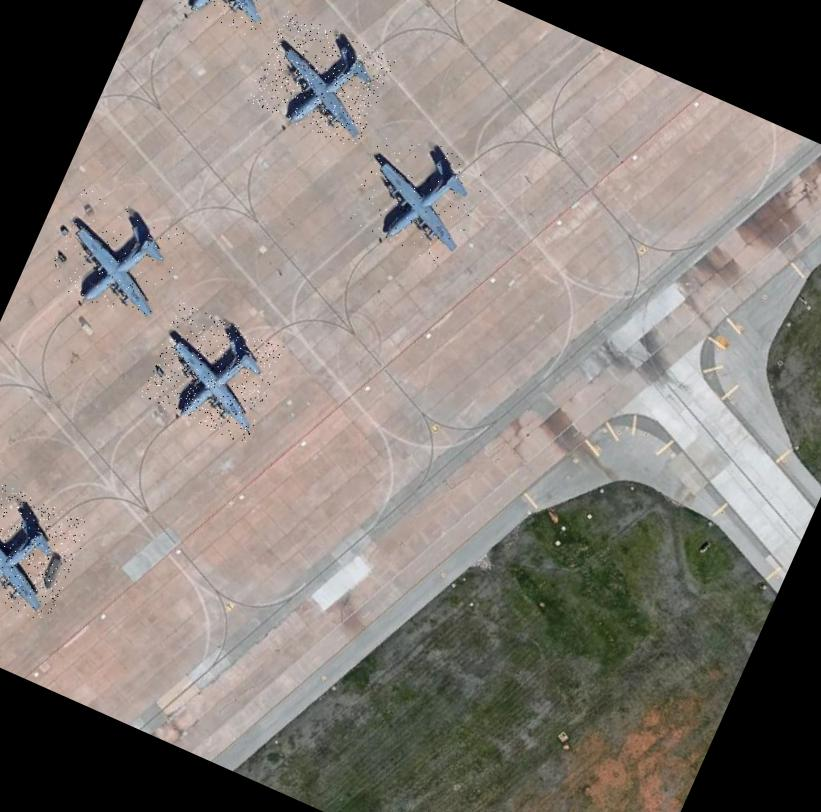A2: (340, 122, 493, 270), (137, 300, 287, 444), (244, 9, 396, 150), (40, 186, 188, 327), (0, 471, 91, 623), (148, 0, 299, 39)
